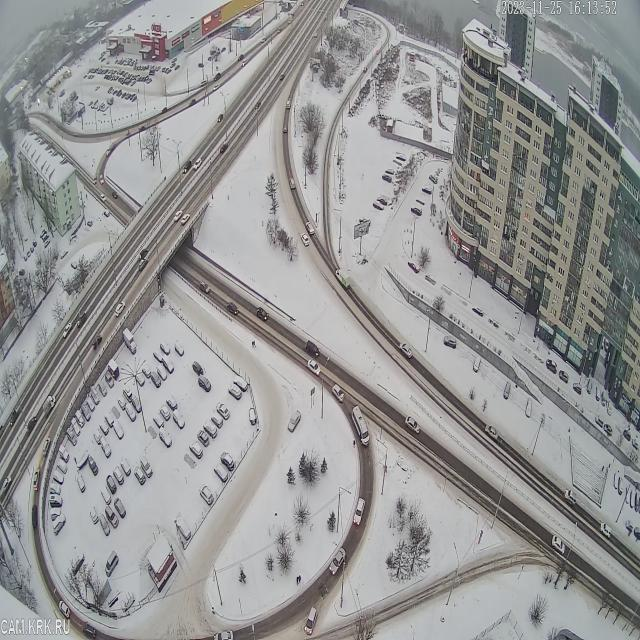car: (352, 405, 370, 447), (329, 548, 346, 577), (303, 606, 318, 637), (404, 412, 421, 437), (288, 408, 302, 436), (176, 516, 191, 541), (123, 328, 137, 354), (335, 267, 350, 291), (353, 497, 365, 527), (199, 482, 214, 506), (53, 512, 66, 538), (105, 551, 118, 577), (71, 552, 84, 578), (158, 425, 172, 448), (215, 401, 230, 422), (220, 451, 235, 472), (305, 340, 320, 360), (398, 341, 413, 361), (105, 506, 118, 529), (214, 463, 228, 484), (484, 422, 498, 443), (140, 455, 152, 479), (552, 534, 565, 556), (189, 440, 203, 460), (121, 593, 135, 613), (308, 357, 321, 378), (172, 408, 185, 429), (82, 620, 95, 640), (332, 384, 345, 404), (107, 360, 120, 380), (199, 374, 212, 394), (210, 410, 223, 430), (74, 473, 86, 494), (228, 384, 242, 402), (234, 375, 248, 393), (256, 305, 269, 324), (99, 515, 110, 537), (44, 396, 56, 416), (99, 438, 111, 458), (152, 412, 164, 432), (158, 402, 170, 422), (197, 429, 209, 449), (114, 498, 126, 518), (112, 465, 124, 485), (134, 466, 146, 486), (564, 488, 576, 508), (443, 333, 457, 350), (226, 300, 239, 318), (120, 456, 131, 477), (87, 457, 99, 476), (112, 420, 124, 439), (204, 421, 216, 440), (49, 493, 63, 509), (131, 394, 142, 414), (100, 485, 111, 505), (600, 521, 611, 541), (79, 404, 91, 422), (173, 340, 185, 358), (163, 357, 174, 376), (106, 475, 117, 494), (408, 257, 420, 274), (40, 436, 50, 456), (30, 506, 39, 528), (59, 602, 70, 620), (66, 428, 77, 446), (160, 338, 171, 356), (75, 313, 87, 329), (198, 280, 210, 296), (192, 360, 204, 376), (472, 302, 484, 318), (126, 403, 136, 422), (89, 506, 99, 525), (213, 631, 234, 640), (96, 380, 107, 397), (150, 372, 161, 389), (104, 371, 114, 389), (50, 479, 60, 497), (122, 386, 132, 404), (153, 346, 163, 364), (26, 418, 37, 434), (53, 470, 64, 486), (104, 412, 115, 428), (546, 358, 557, 374), (524, 397, 532, 419), (116, 301, 126, 318), (90, 388, 100, 405), (75, 411, 85, 428), (70, 419, 80, 436), (59, 446, 69, 463), (157, 364, 167, 381), (2, 477, 12, 494), (33, 468, 40, 492), (503, 379, 511, 400), (410, 203, 422, 217), (142, 361, 151, 379), (472, 355, 481, 373), (57, 458, 67, 474), (167, 396, 177, 412), (50, 507, 61, 521), (299, 234, 310, 248), (10, 411, 19, 428), (138, 256, 148, 271), (86, 396, 95, 412), (117, 394, 126, 410), (136, 370, 144, 388), (559, 370, 568, 386), (62, 324, 72, 338), (99, 422, 109, 436), (573, 381, 582, 396), (613, 471, 620, 490), (372, 200, 383, 212), (381, 172, 392, 184), (421, 184, 432, 196), (182, 160, 192, 173), (192, 157, 202, 170), (378, 193, 388, 206), (306, 222, 315, 236), (93, 430, 102, 444), (180, 214, 190, 226), (138, 246, 148, 258), (396, 151, 406, 163), (605, 422, 612, 439), (92, 336, 101, 349), (429, 173, 438, 186), (606, 397, 612, 416), (288, 176, 296, 190), (595, 414, 603, 428), (172, 211, 182, 221), (626, 520, 633, 534), (220, 142, 228, 154), (216, 112, 224, 124), (634, 526, 640, 542), (635, 490, 639, 513), (632, 438, 639, 451), (385, 166, 394, 176), (601, 389, 606, 407), (619, 475, 623, 497), (626, 483, 630, 505), (630, 487, 634, 509), (587, 377, 592, 394), (624, 429, 631, 441), (596, 385, 600, 403), (282, 124, 288, 134), (286, 98, 291, 110), (279, 73, 285, 83), (255, 102, 261, 110)
